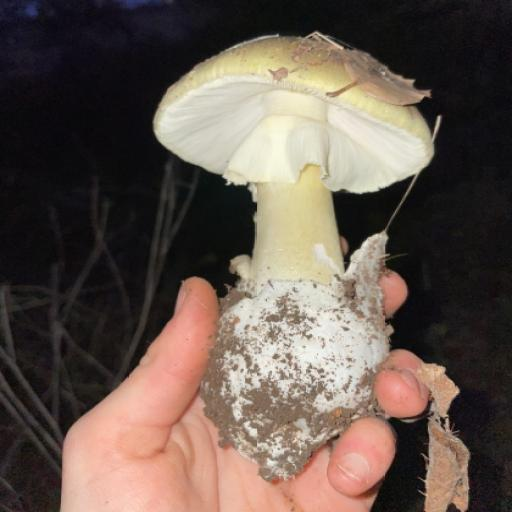mushroom: (150, 28, 440, 199), (237, 162, 345, 293)
